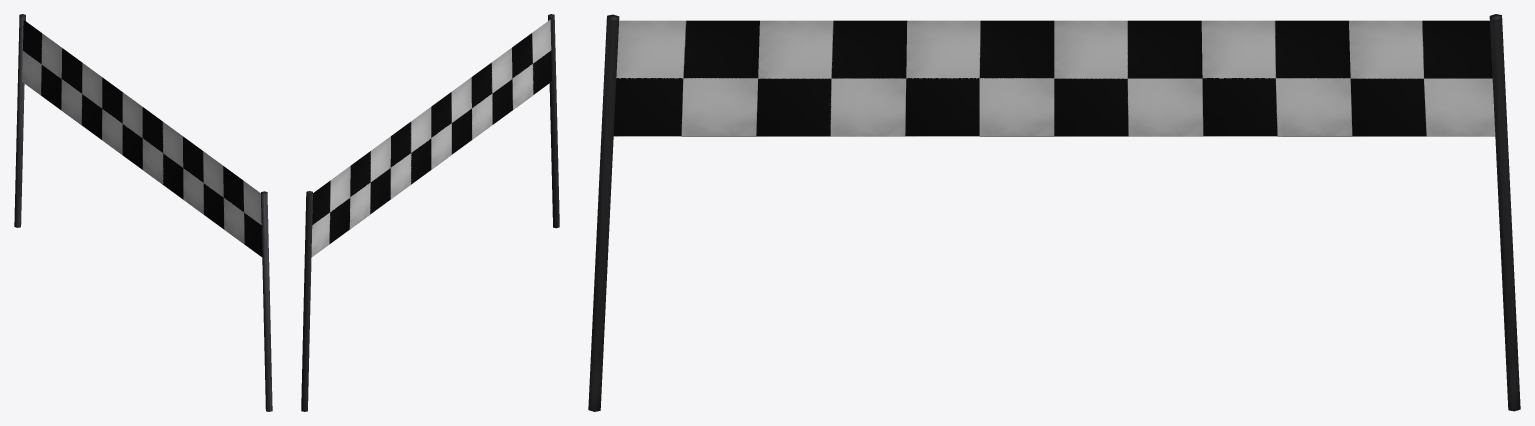
Rendered from Finish_MOD.fbx.
3 renders of one model, left to right at view 1: azimuth 30°, elevation 25°; view 2: azimuth 150°, elevation 25°; view 3: azimuth 270°, elevation 25°, orthographic. The views are drawn at different scales.
Parts seen in each view (by area): view 1: Finish_MOD; view 2: Finish_MOD; view 3: Finish_MOD.
Part boxes in pixels (left/top/right/bottom): Finish_MOD: left=14, top=14, right=272, bottom=411; Finish_MOD: left=301, top=14, right=559, bottom=411; Finish_MOD: left=588, top=14, right=1520, bottom=411.
Size of the model in its own units: 0.2135 by 6.54 by 14.07.
